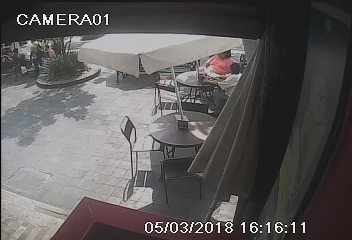libre: (118, 100, 230, 201)
ocupado: (156, 49, 246, 115)
